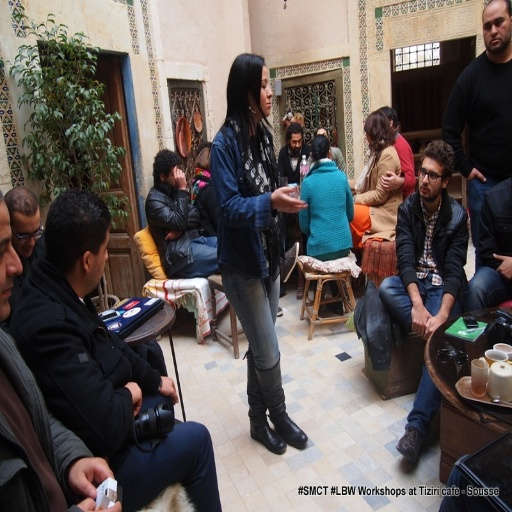hand: (63, 438, 110, 500), (269, 184, 307, 215), (410, 300, 432, 333), (124, 379, 142, 416), (75, 496, 121, 510), (422, 314, 446, 340), (160, 376, 178, 405), (492, 251, 511, 277), (379, 167, 399, 190), (467, 166, 487, 181), (172, 163, 185, 186), (164, 231, 181, 240)
